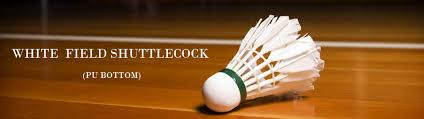shuttle: (201, 10, 325, 109)
